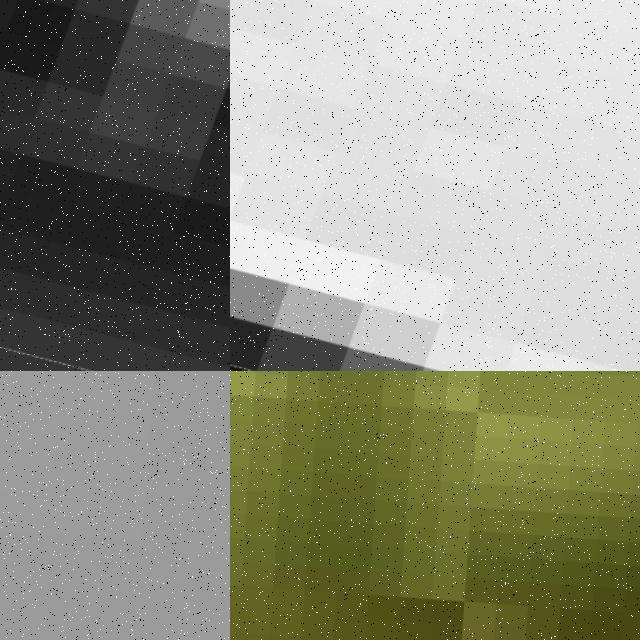drone: (230, 0, 640, 371), (0, 0, 230, 371)
